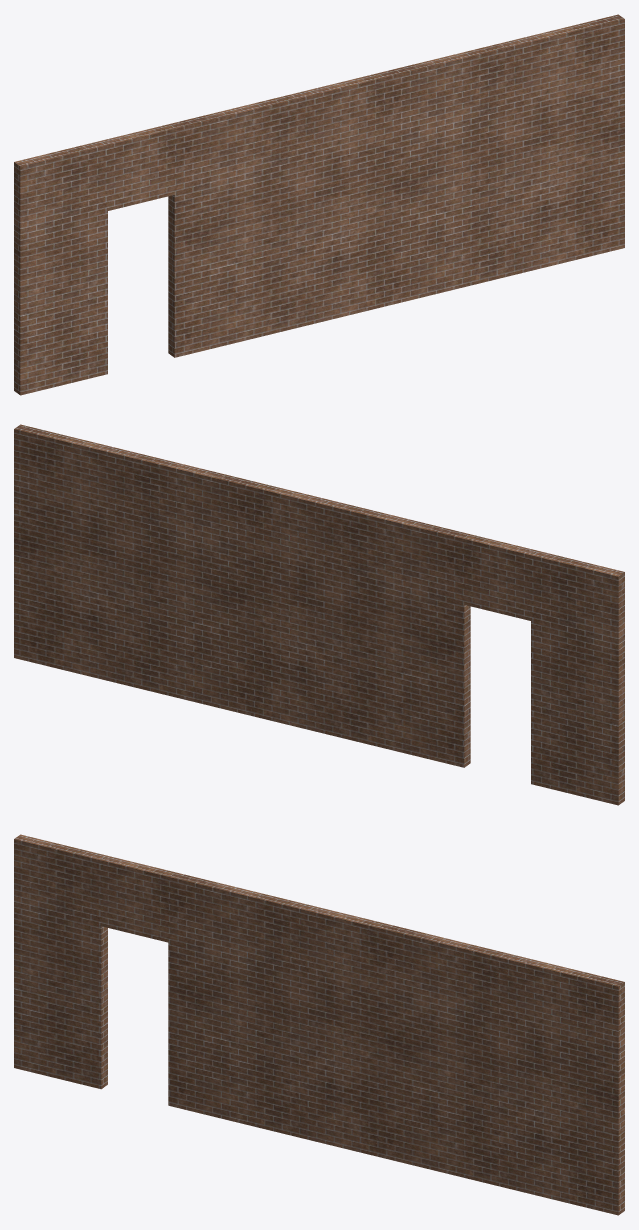
The model's file is Joglo_part_252.fbx.
3 renders of one model, top to bottom at view 1: azimuth 30°, elevation 25°; view 2: azimuth 150°, elevation 25°; view 3: azimuth 330°, elevation 25°, orthographic.
Parts seen in each view (by area): view 1: Mesh320_Brick___Brown_0.001; view 2: Mesh320_Brick___Brown_0.001; view 3: Mesh320_Brick___Brown_0.001.
Part boxes in pixels (<box>): Mesh320_Brick___Brown_0.001: <box>14,14,624,395</box>; Mesh320_Brick___Brown_0.001: <box>14,424,624,805</box>; Mesh320_Brick___Brown_0.001: <box>14,834,624,1215</box>.
Bounding box in the file's own units: 321 × 116 × 5.91.
